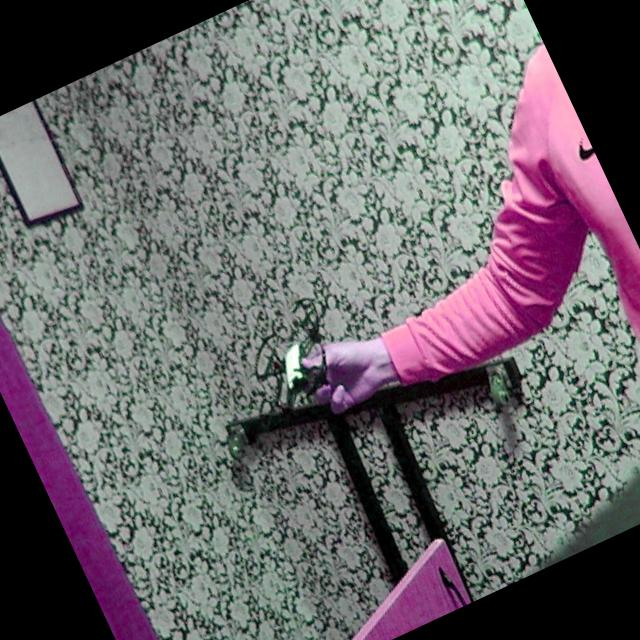drone: (224, 290, 366, 432)
